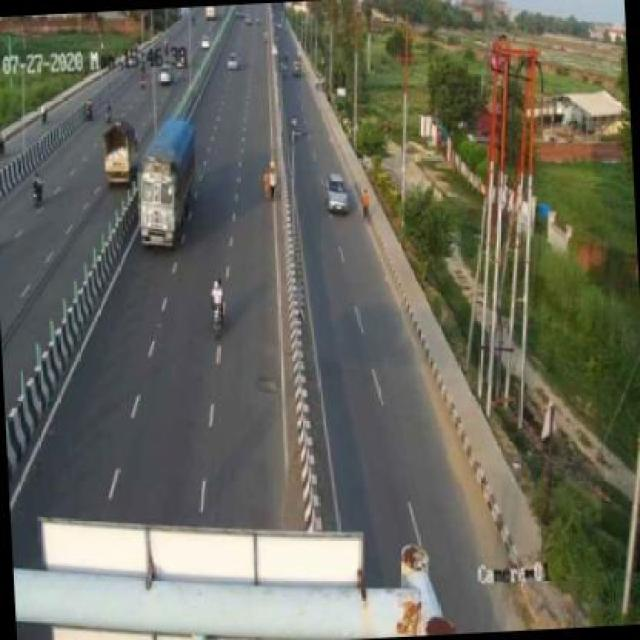car: (324, 172, 350, 217)
